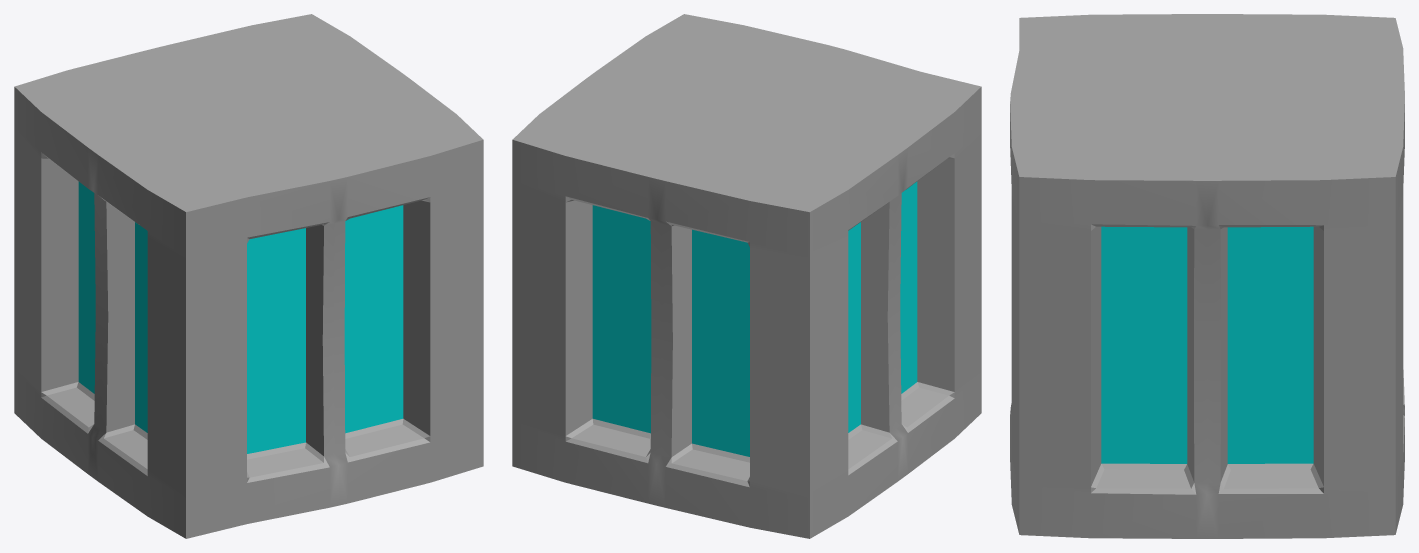
The model's file is woodbox.fbx.
The picture shows the model from 3 angles, left to right: view 1: azimuth 30°, elevation 25°; view 2: azimuth 150°, elevation 25°; view 3: azimuth 270°, elevation 25°; orthographic projection. The views are drawn at different scales.
Visible parts, largest first — view 1: pCube1; view 2: pCube1; view 3: pCube1.
Boxes of the visible parts, box(x1,y1,x2,y2) form: pCube1: box(14, 14, 483, 538); pCube1: box(512, 14, 981, 538); pCube1: box(1010, 14, 1404, 538).
Bounding box in the file's own units: 8.94 × 8.94 × 8.94.
